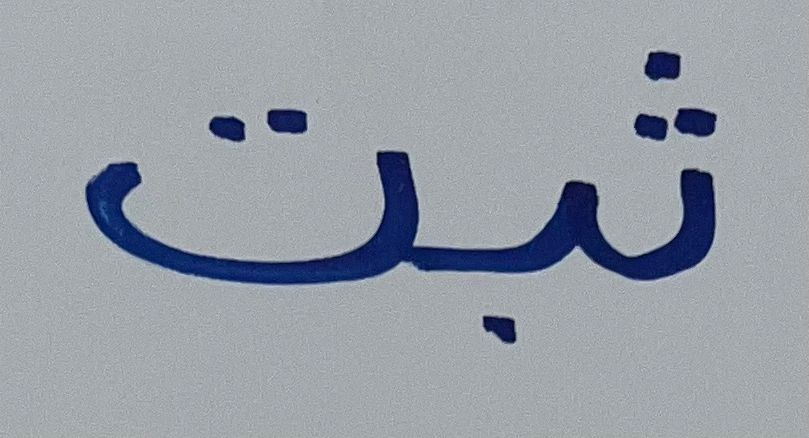beh: (451, 123, 595, 353)
teh: (60, 78, 443, 322)
theh: (598, 34, 740, 309)
